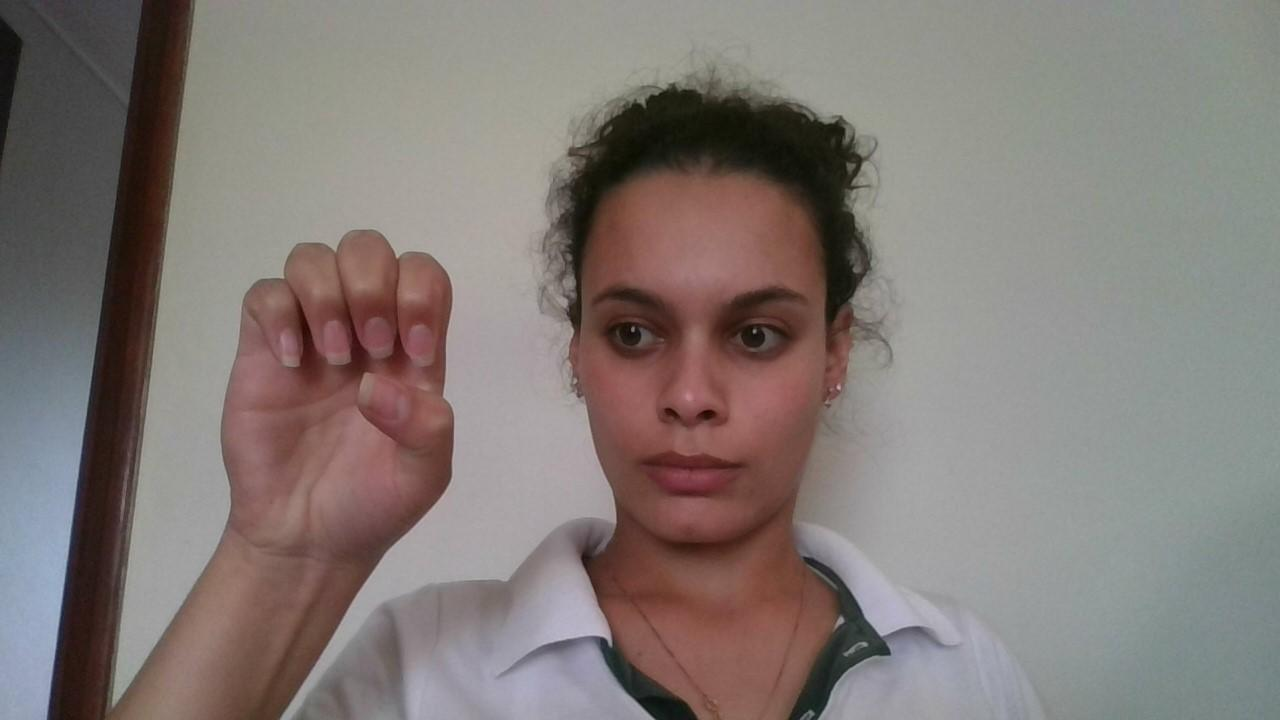E: (212, 224, 464, 538)
